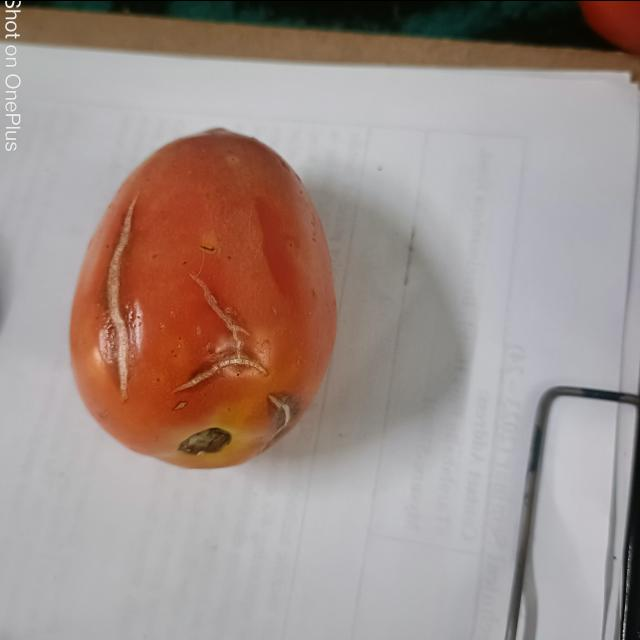tomato_cracking: (177, 258, 276, 401), (97, 171, 153, 396)
